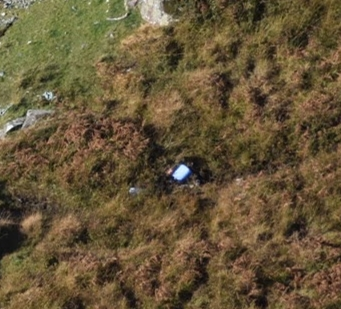white_in_green: (160, 151, 203, 192)
